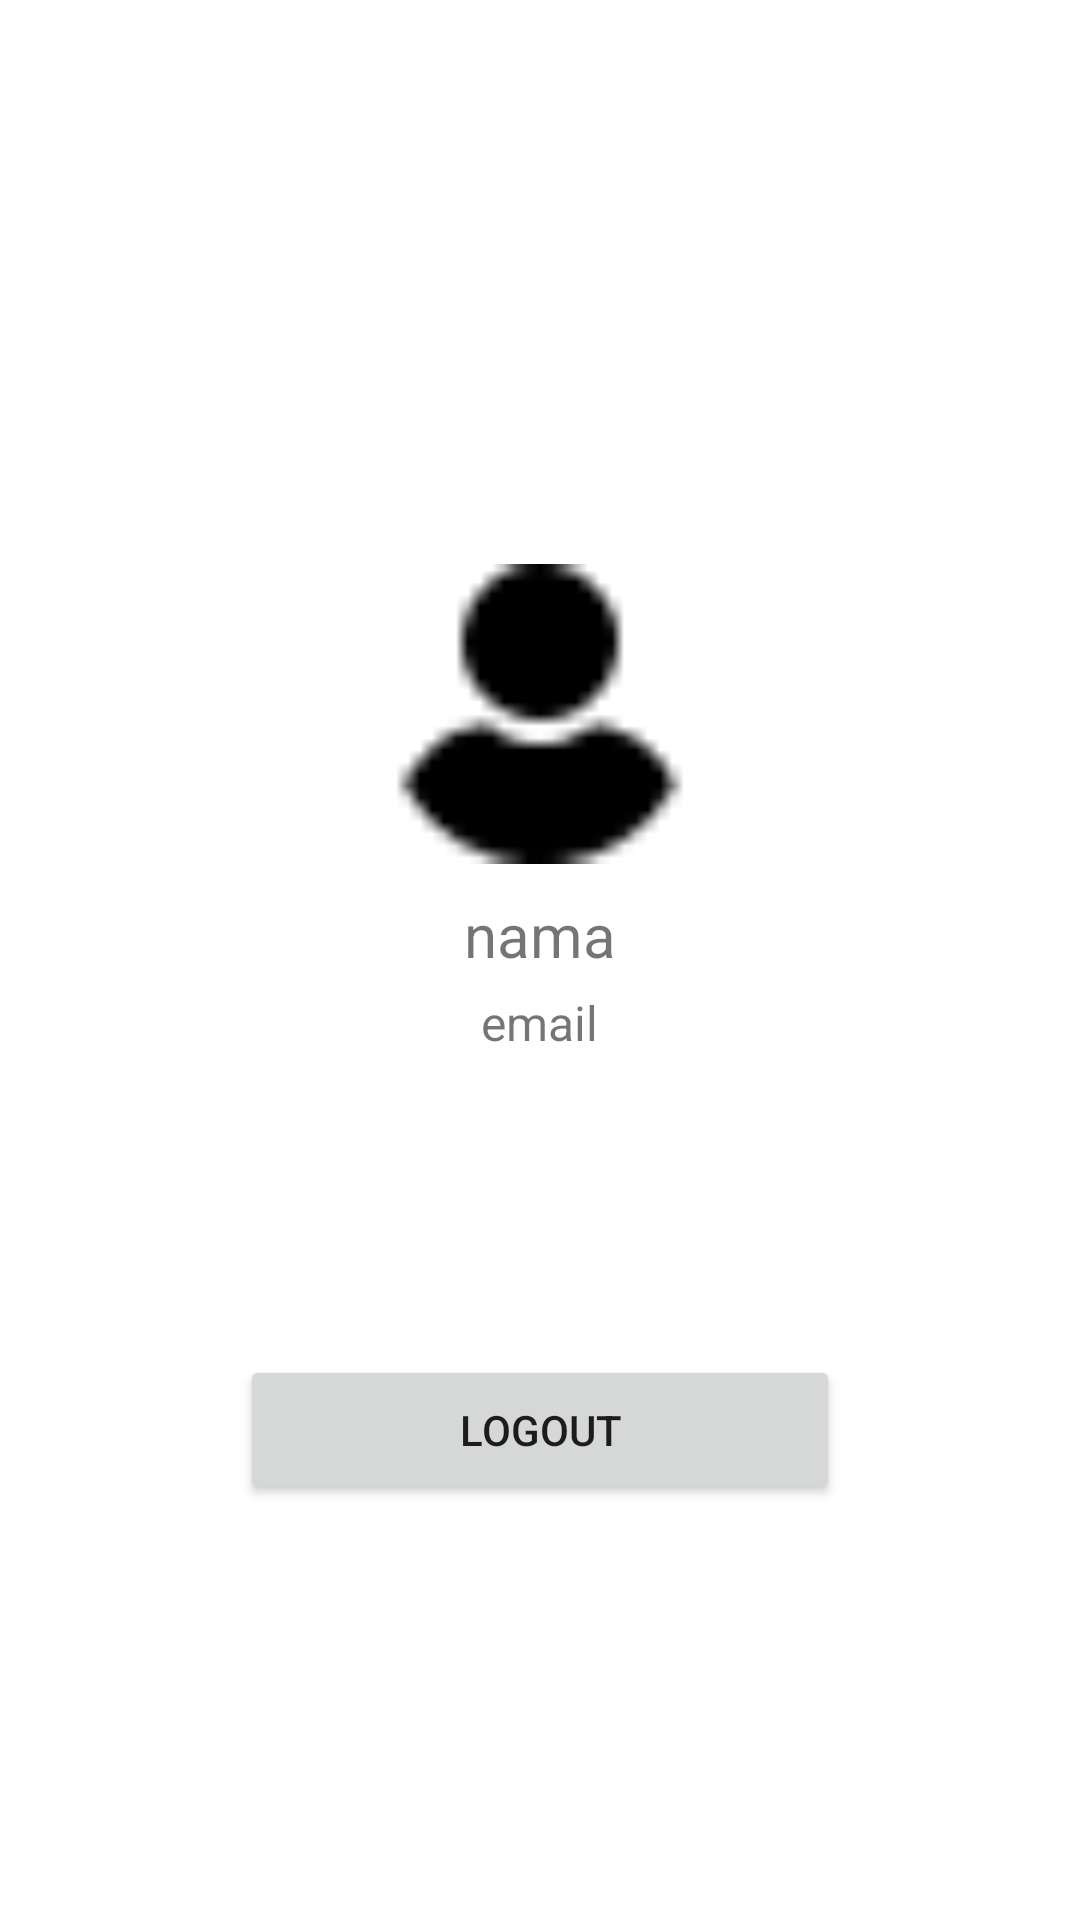

Named icons in this screenshot (1080w x 1920h) and their centers, [x,y]:
user: [540,714]
